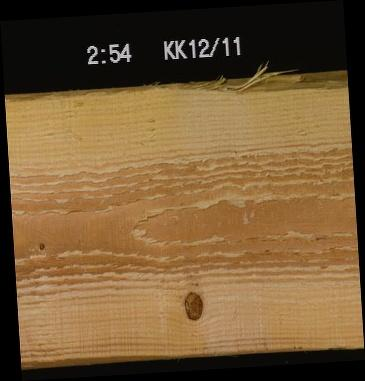dry_knot: (181, 288, 203, 321)
small_knot: (35, 238, 46, 252)
wave: (4, 76, 347, 100), (20, 342, 363, 364)
